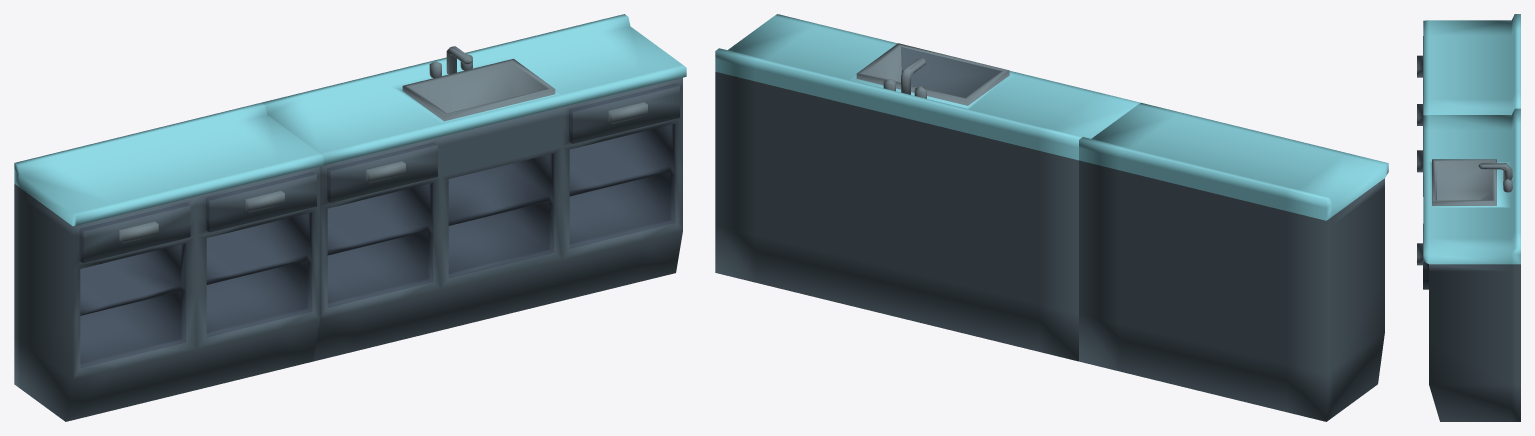
Rendered from KitchenUnitsAndSink_kitchen_v1.fbx.
The picture shows the model from 3 angles, left to right: view 1: azimuth 30°, elevation 25°; view 2: azimuth 150°, elevation 25°; view 3: azimuth 270°, elevation 25°; orthographic projection. The views are drawn at different scales.
Parts seen in each view (by area): view 1: Cube, Cube.004; view 2: Cube, Cube.004; view 3: Cube, Cube.004, Tap, Tap tempeture.
Boxes of the visible parts, left/top/right/bottom form: Cube: left=262, top=14, right=686, bottom=361; Cube.004: left=14, top=102, right=323, bottom=421; Cube: left=715, top=14, right=1140, bottom=361; Cube.004: left=1079, top=102, right=1388, bottom=421; Cube: left=1417, top=108, right=1520, bottom=421; Cube.004: left=1417, top=14, right=1520, bottom=130; Tap: left=1478, top=163, right=1511, bottom=184; Tap tempeture: left=1503, top=169, right=1512, bottom=192.
Bounding box in the file's own units: 334 × 125 × 62.56.
